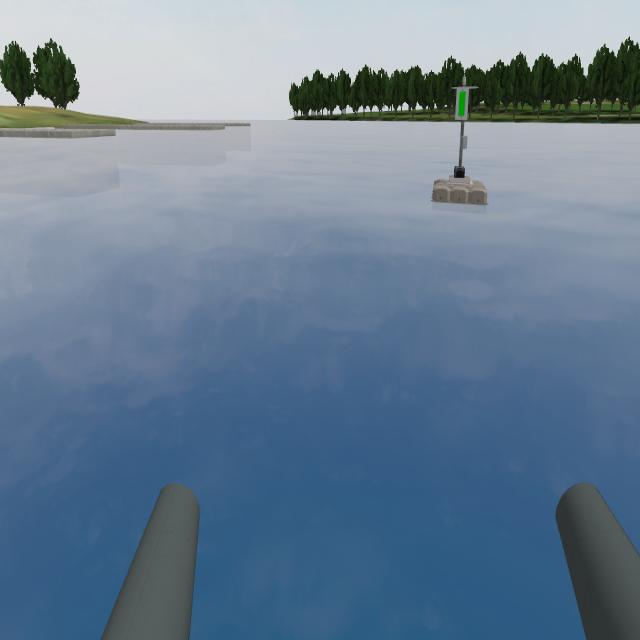green_pole: (449, 73, 478, 128)
